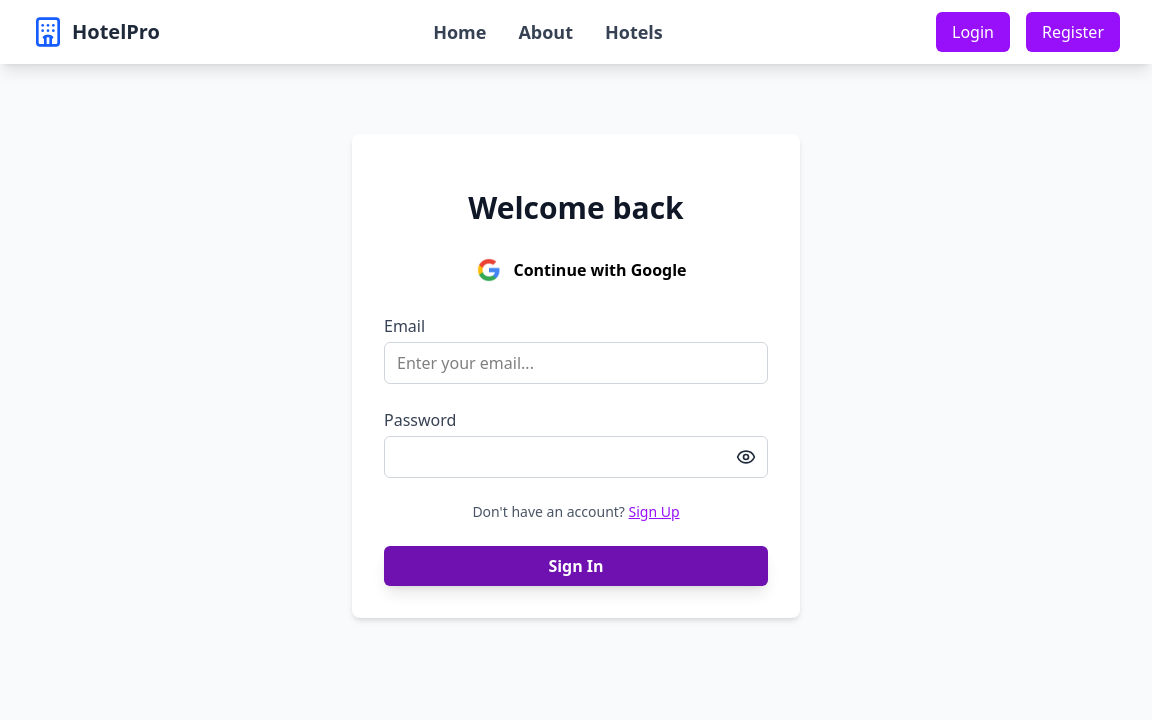
Test: Login Form Tests › should not login with invalid credentials
The image size is (1152, 720).
expect the heading "Welcome back" is shown: met, box [468, 187, 684, 228]
// Enter valid email but wrong password
Type "mutambukijoshua2@gmail.com" into the field labelled "Email" at {"x": 576, "y": 363}, box [384, 342, 768, 384]
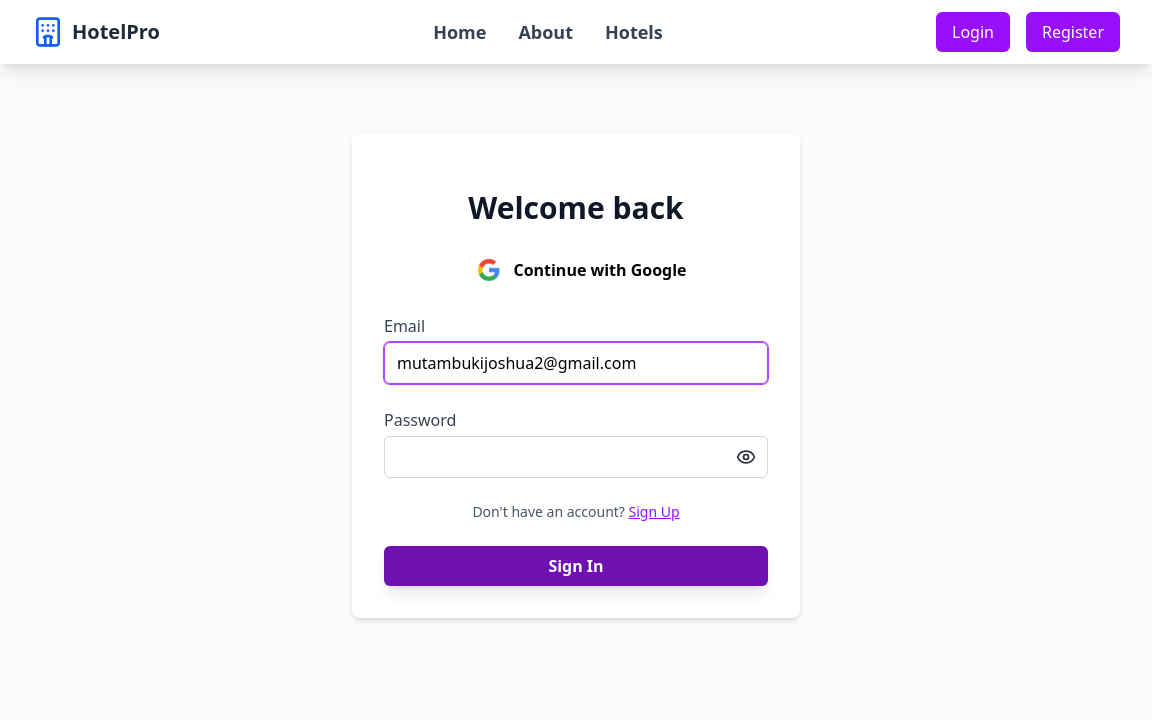
Type "wrongpassword123" into the password field labelled "Password" at {"x": 576, "y": 457}, box [384, 436, 768, 478]
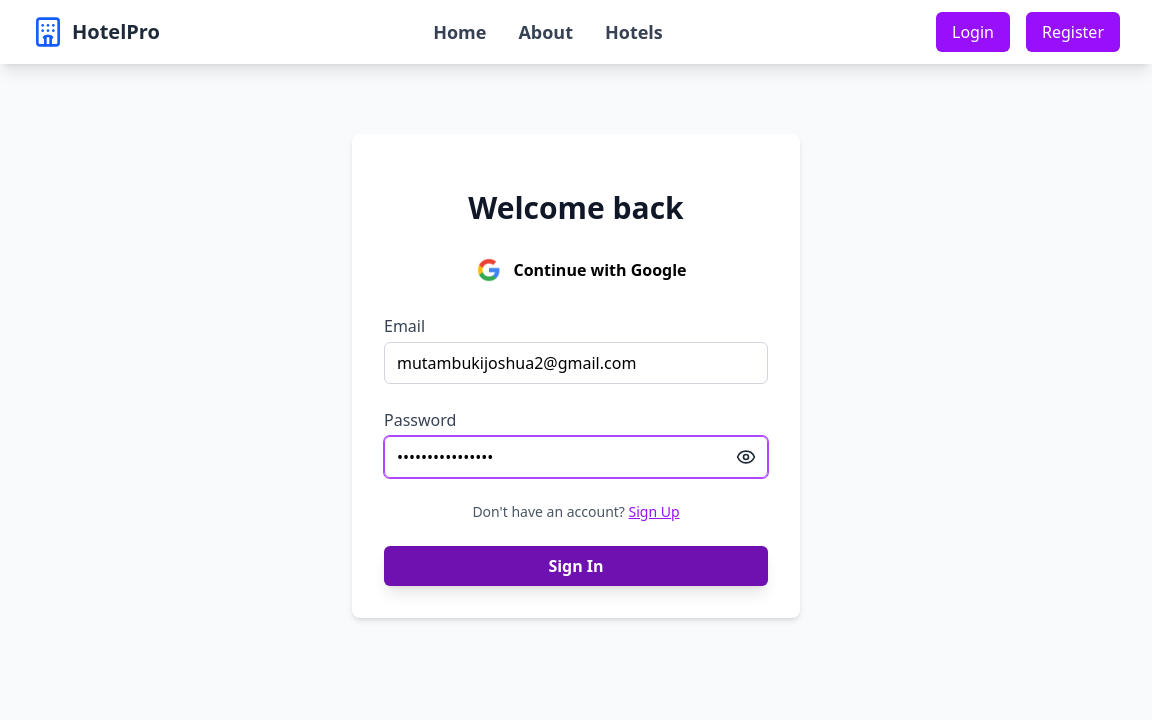
Click the button "Sign In" at {"x": 576, "y": 566}, box [384, 546, 768, 586]
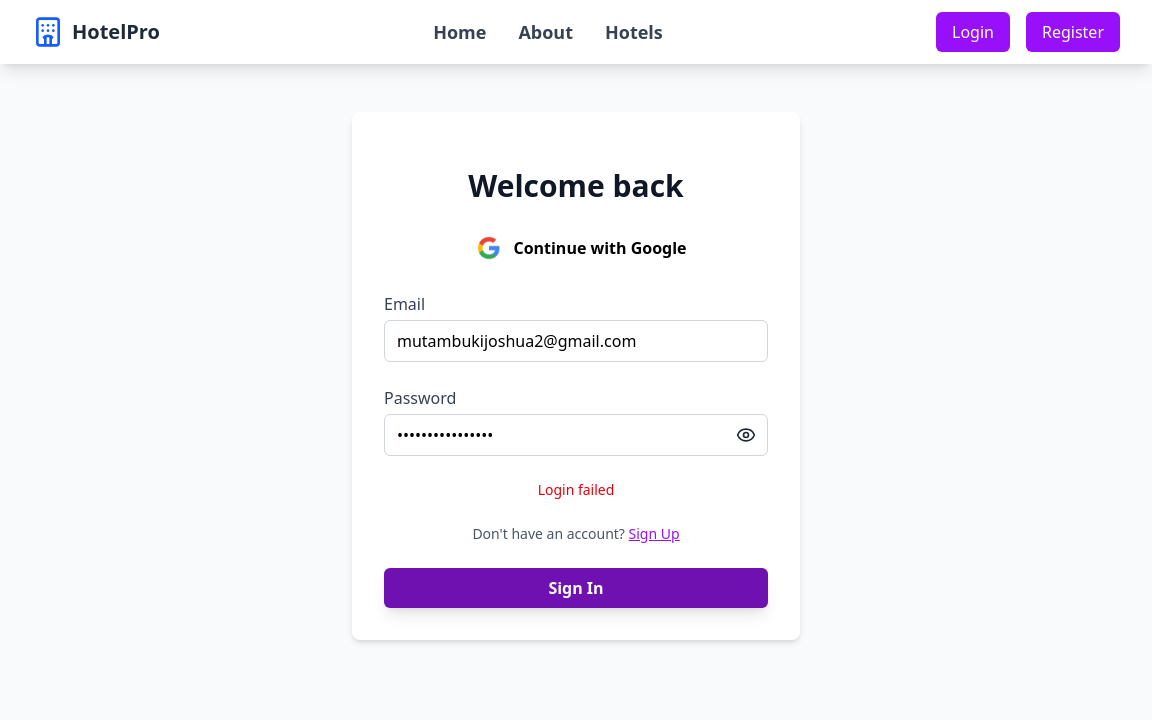
expect the text "Login failed" is shown: met, box [538, 480, 614, 499]
